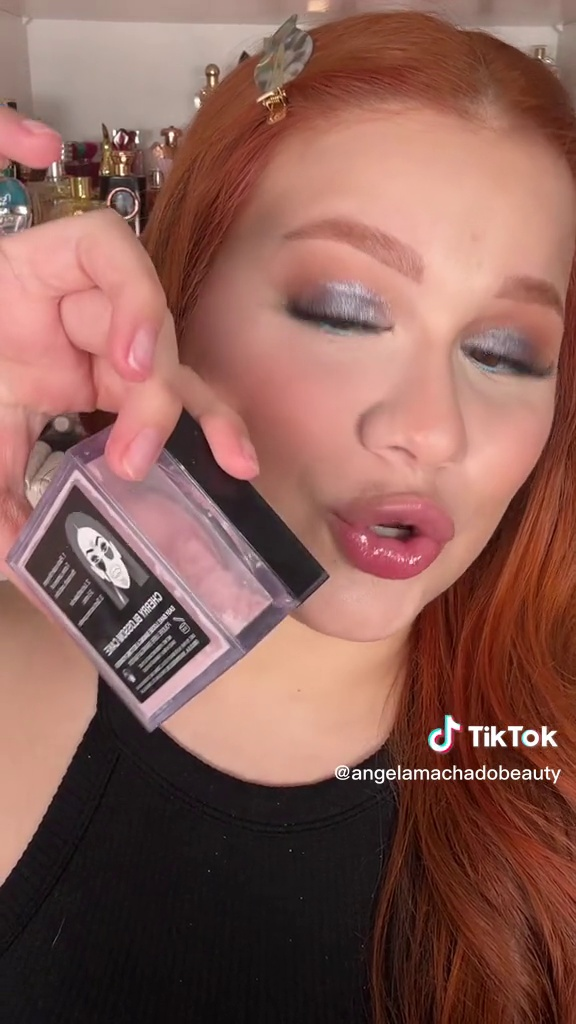train' :'yolo_data/train/images',: (2, 390, 340, 741)
